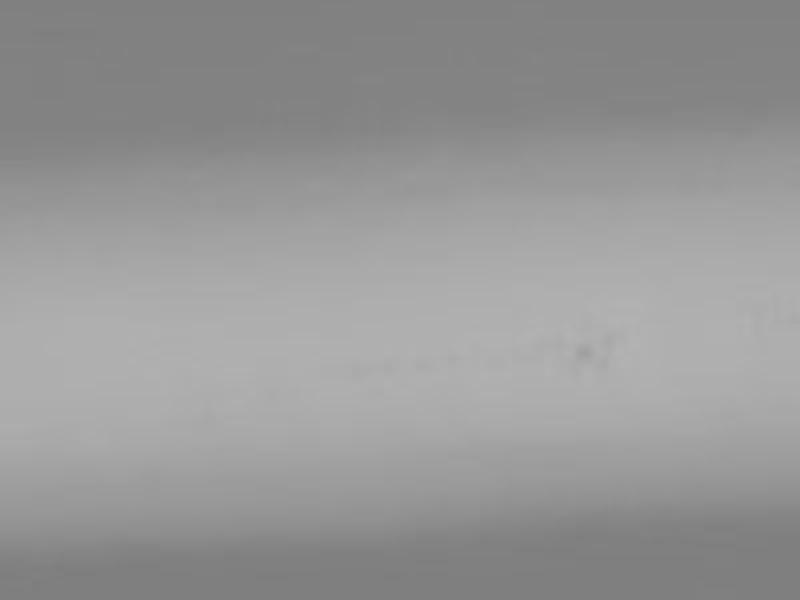defect: (595, 354, 615, 373), (574, 342, 593, 361), (600, 328, 621, 343)
